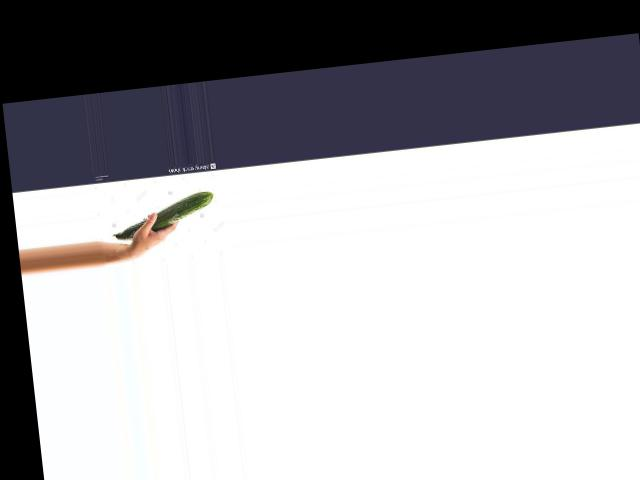cucumber: (108, 190, 217, 241)
